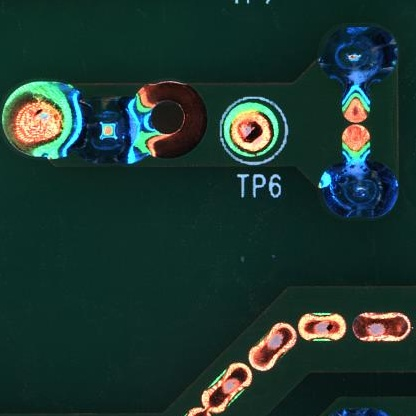spot: (316, 157, 400, 220), (318, 25, 400, 85), (76, 95, 136, 164), (221, 99, 281, 160)
